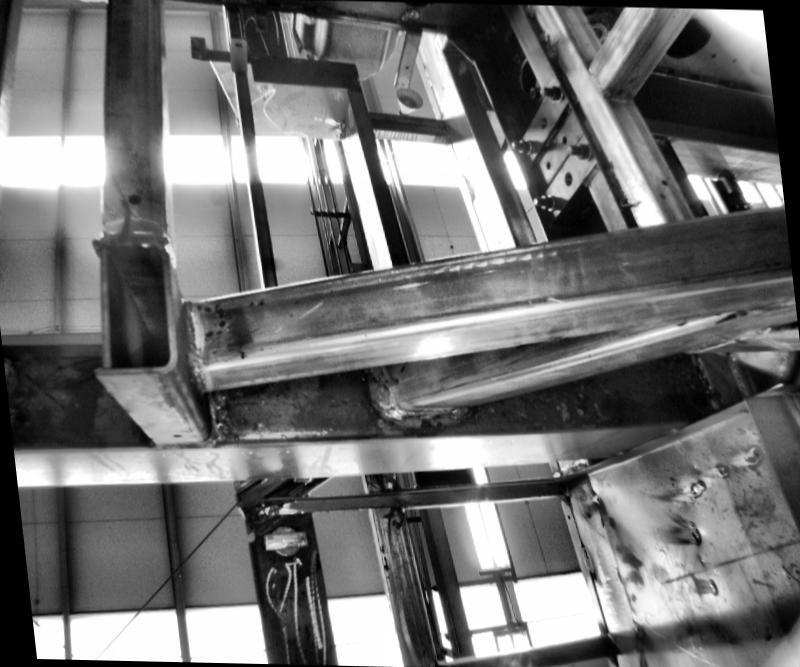bolt: (536, 81, 562, 103), (564, 142, 594, 159), (528, 192, 554, 209), (508, 139, 531, 153)
bracket: (503, 75, 609, 222), (388, 7, 427, 91), (226, 27, 248, 75)
hole: (124, 191, 144, 208), (536, 115, 548, 128), (562, 170, 572, 185), (542, 159, 550, 169), (559, 135, 567, 145), (170, 432, 180, 439), (659, 178, 667, 186), (233, 42, 242, 48), (402, 64, 410, 70), (584, 510, 592, 516), (399, 81, 404, 85), (565, 512, 569, 517), (497, 239, 500, 242), (440, 85, 442, 88)
welding: (375, 403, 467, 419), (182, 303, 204, 366), (370, 364, 396, 414), (580, 543, 593, 575), (420, 66, 432, 87)
